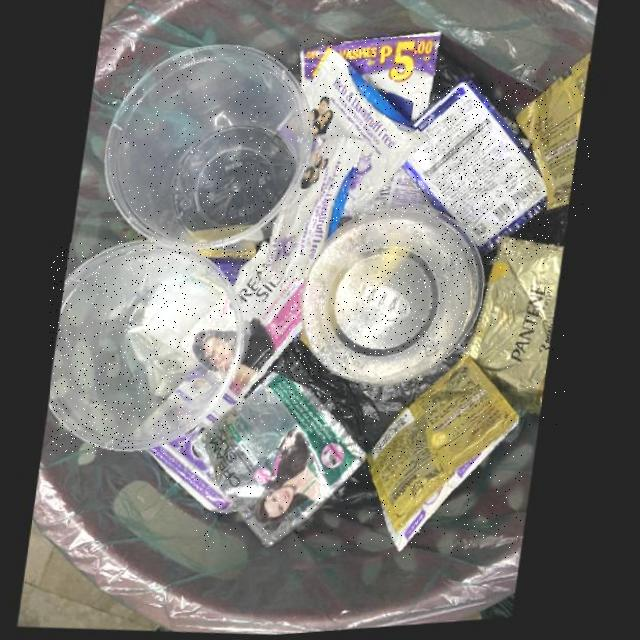plastic: (105, 48, 314, 255), (51, 243, 252, 455), (304, 211, 486, 392)
wrapper: (196, 377, 370, 553), (371, 362, 522, 559), (403, 82, 549, 265), (306, 56, 428, 223), (469, 243, 565, 425), (260, 140, 365, 290), (300, 38, 441, 130), (233, 247, 309, 405), (517, 62, 590, 219)
